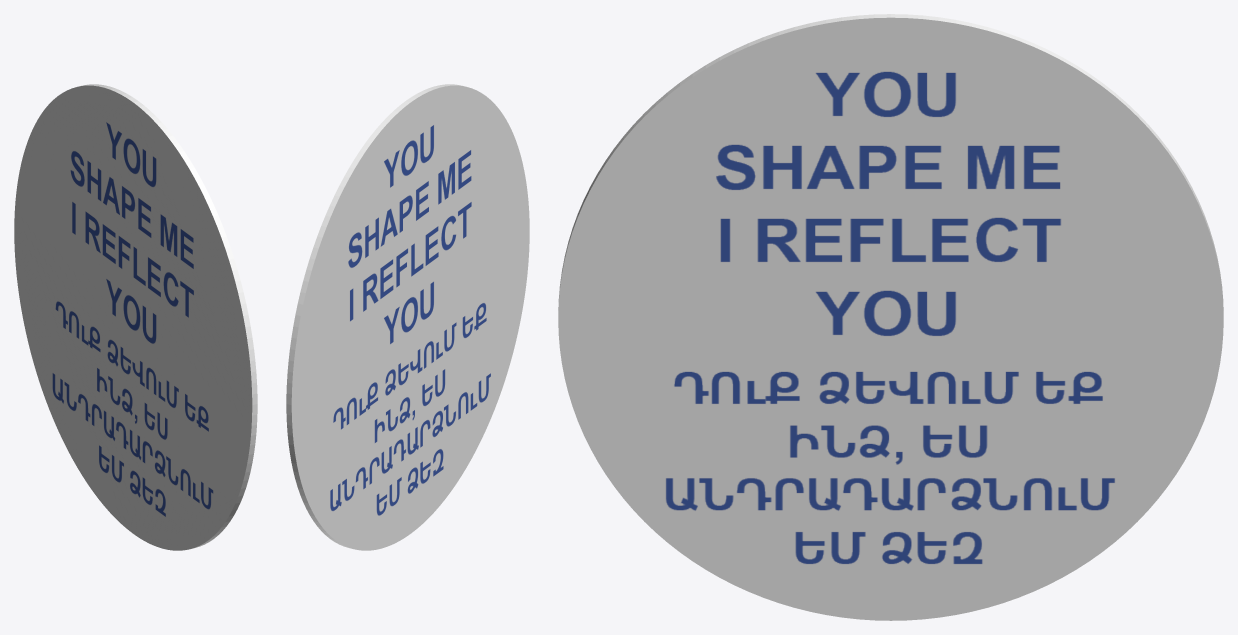
The model's file is you-shape-me.glb.
3 views of the same model, side by side, from view 1: azimuth 30°, elevation 25°; view 2: azimuth 150°, elevation 25°; view 3: azimuth 270°, elevation 25° (orthographic). The views are drawn at different scales.
Visible parts, largest first — view 1: Circle, Plane.001; view 2: Circle, Plane.001; view 3: Circle, Plane.
Boxes of the visible parts, x1,y1,x2,y2 form: Circle: (14,84,257,550); Plane.001: (52,122,213,516); Circle: (286,84,529,550); Plane.001: (330,125,490,515); Circle: (558,14,1223,620); Plane: (665,71,1115,564).
Bounding box in the file's own units: 0.0276 × 2 × 2.
Materials: 2 (1 with a texture image).
